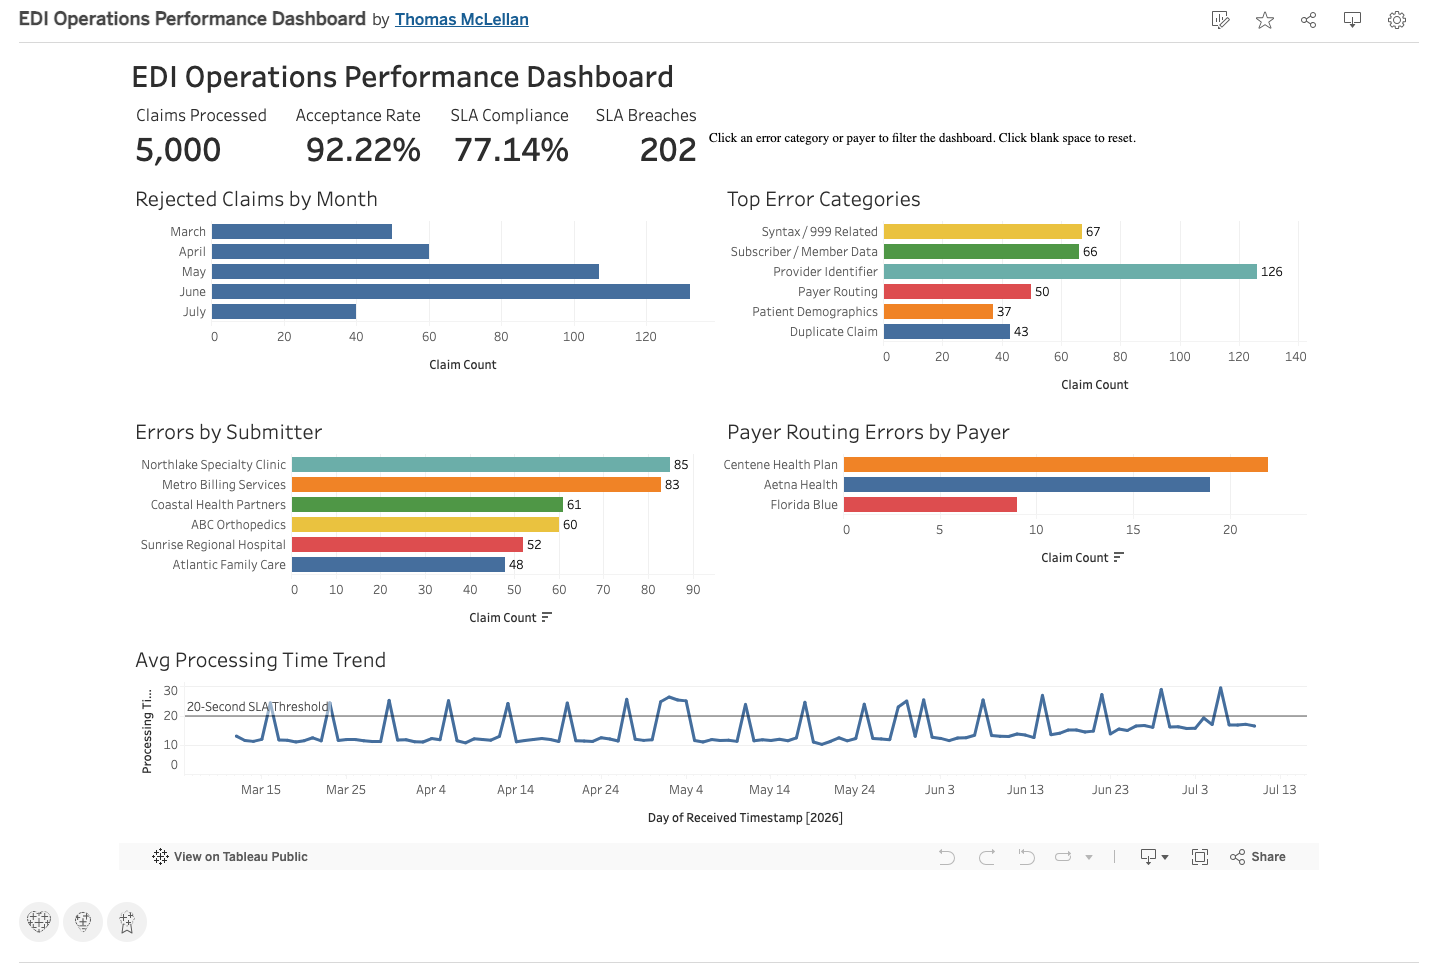

Layout of this report page (visuals, bound fields, positions):
{"tool":"tableau","page":{"name":"EDI Operations Performance Dashboard","canvas":[1000,1000],"units":"permille","ordinal":0},"visuals":[{"type":"title","box":[6.7,10,986.7,60]},{"type":"worksheet","title":"Claims processed","mark":"Text","box":[6.7,70,128.3,93.8]},{"type":"worksheet","title":"Acceptance Rate","mark":"Automatic","box":[135,70,123.3,93.8]},{"type":"worksheet","title":"SLA Compliance","mark":"Automatic","box":[258.4,70,123.3,93.8]},{"type":"worksheet","title":"SLA Breaches","mark":"Automatic","box":[381.7,70,106.7,93.8]},{"type":"text","box":[488.4,70,505,93.8]},{"type":"worksheet","title":"Daily Rejections","mark":"Bar","rows":["received_timestamp"],"cols":["claim_count"],"box":[6.7,163.8,493.3,282.5]},{"type":"worksheet","title":"Top Error Categories","mark":"Automatic","rows":["error_category"],"cols":["claim_count"],"box":[500,163.8,493.3,282.5]},{"type":"worksheet","title":"Provider Identifier by Submitter","mark":"Automatic","rows":["submitter_name"],"cols":["claim_count"],"box":[6.7,455,493.3,282.5]},{"type":"worksheet","title":"Payer Routing Errors by Payer","mark":"Automatic","rows":["payer_name"],"cols":["claim_count"],"box":[500,455,493.3,282.5]},{"type":"worksheet","title":"Avg Processing time","mark":"Line","rows":["processing_time_seconds"],"cols":["received_timestamp"],"box":[6.7,737.5,986.7,252.5]}]}

Visuals, with their boxes on the dashboard's canvas, which has no fixed pixel size, in thousandths of its width and height (x1, y1, x2, y2). These are canvas units, not pixel positions in the 1445x964 screenshot, which may show the page scaled, cropped or inside an application window:
title: 7:10:993:70
"Claims processed" worksheet (Text marks): 7:70:135:164
"Acceptance Rate" worksheet: 135:70:258:164
"SLA Compliance" worksheet: 258:70:382:164
"SLA Breaches" worksheet: 382:70:488:164
text: 488:70:993:164
"Daily Rejections" worksheet (Bar marks): 7:164:500:446
"Top Error Categories" worksheet: 500:164:993:446
"Provider Identifier by Submitter" worksheet: 7:455:500:738
"Payer Routing Errors by Payer" worksheet: 500:455:993:738
"Avg Processing time" worksheet (Line marks): 7:738:993:990
